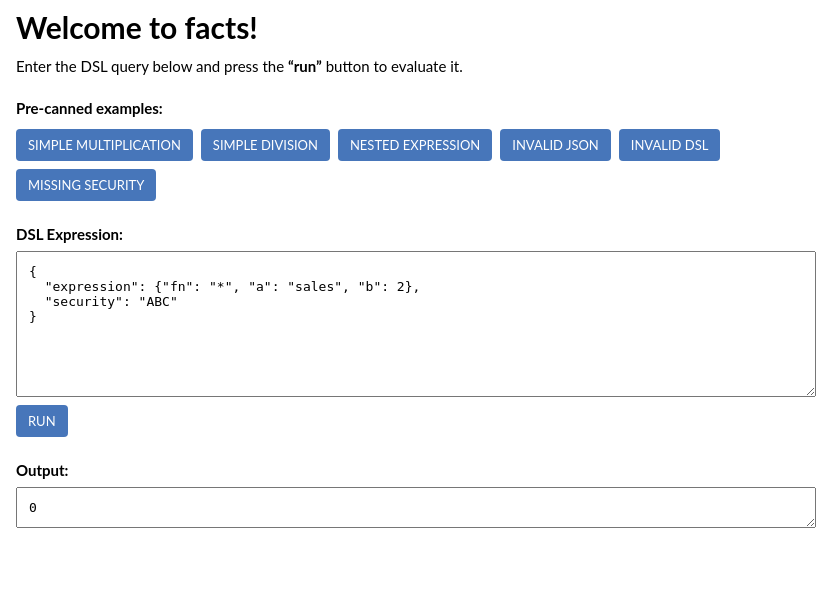
Test: Index page › should evaluate the expression when the "run" button is clicked (positive)
The width and height of the screenshot is (833, 593).
Click the button with test id "run-button" at (42, 421), box [16,405,68,437]
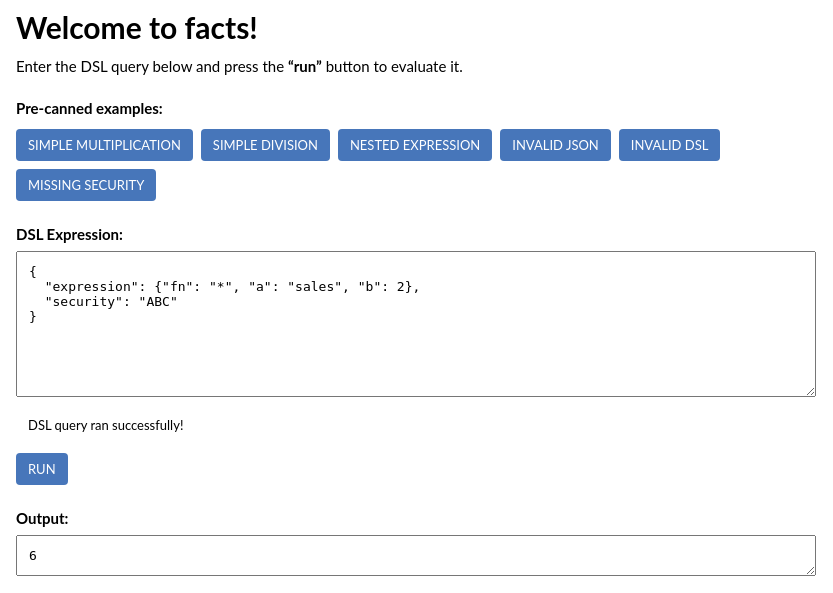
Expected: the text box with test id "dsl-output" holds "6", [16,535,816,576]
Expected: the text "DSL query ran successfully!" is enabled, [16,405,816,445]
